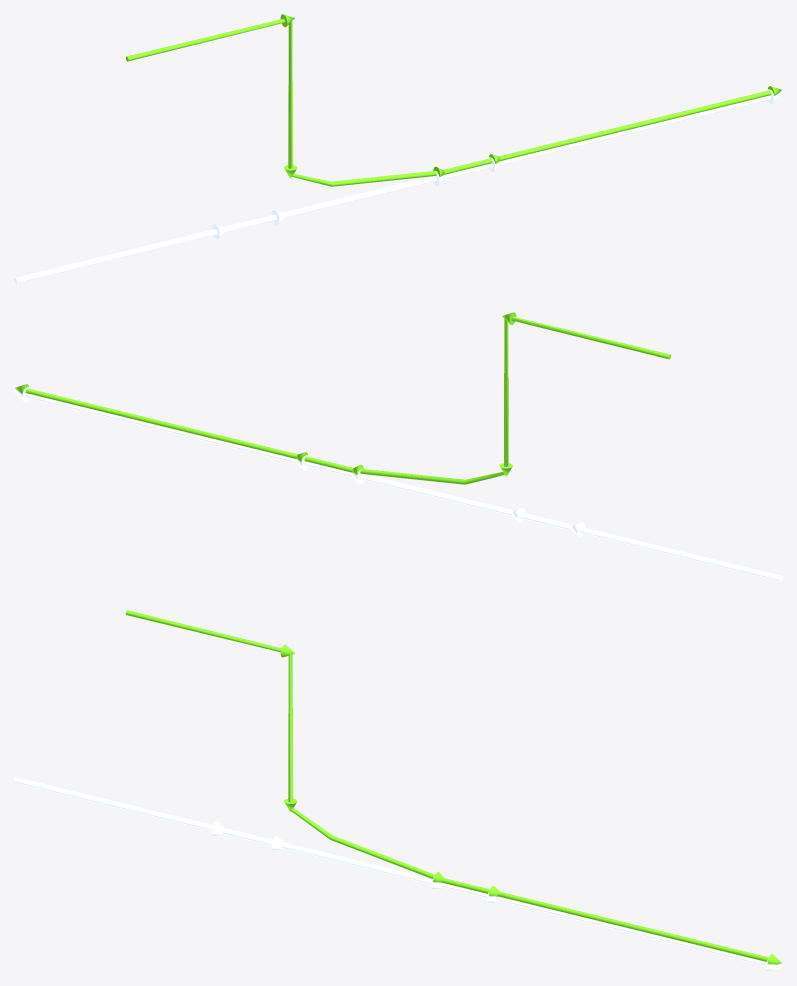
Rendered from vacuum_ejector_flow.glb.
3 views of the same model, one above another, from view 1: azimuth 30°, elevation 25°; view 2: azimuth 150°, elevation 25°; view 3: azimuth 330°, elevation 25° (orthographic).
Parts seen in each view (by area): view 1: motive_steam, suction_gas; view 2: motive_steam, suction_gas; view 3: motive_steam, suction_gas.
Boxes of the visible parts, bbox=[...] form: motive_steam: bbox=[14, 89, 782, 283]; suction_gas: bbox=[125, 14, 781, 186]; motive_steam: bbox=[14, 387, 782, 581]; suction_gas: bbox=[15, 312, 671, 484]; motive_steam: bbox=[14, 777, 782, 971]; suction_gas: bbox=[125, 610, 781, 964].
Bounding box in the file's own units: 2.06 × 0.5338 × 0.0364.
